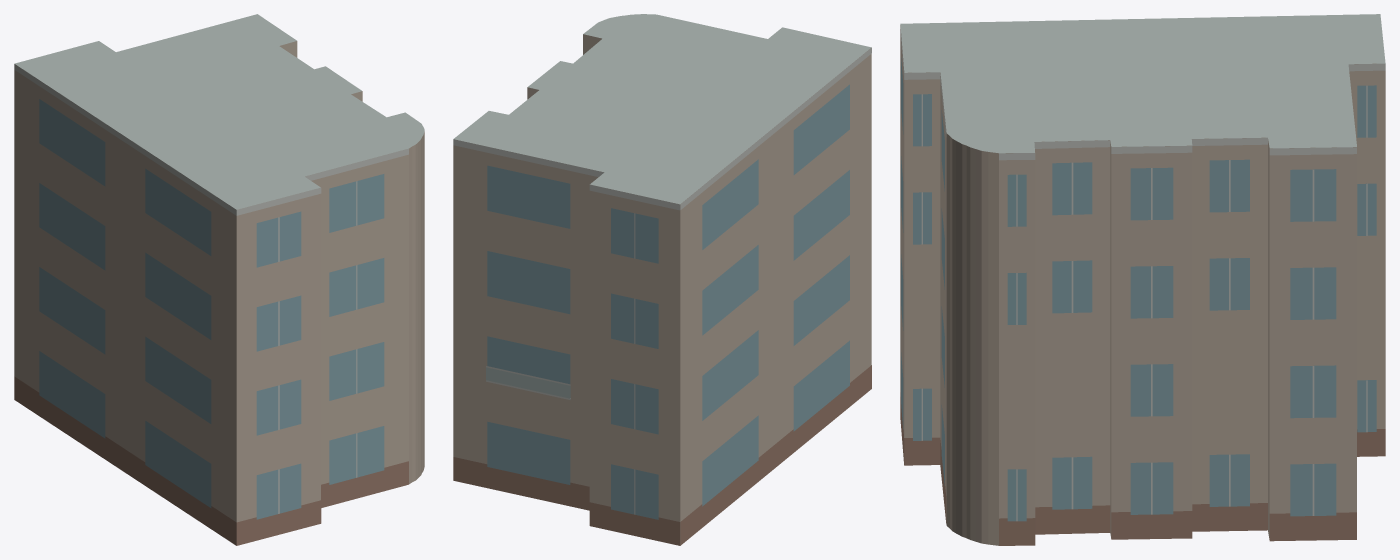
The model's file is survey-upis-32699806.glb.
3 renders of one model, left to right at view 1: azimuth 30°, elevation 25°; view 2: azimuth 150°, elevation 25°; view 3: azimuth 270°, elevation 25°, orthographic. The views are drawn at different scales.
Parts seen in each view (by area): view 1: survey-upis-32699806.tmp; view 2: survey-upis-32699806.tmp; view 3: survey-upis-32699806.tmp.
Part boxes in pixels (x1=…): survey-upis-32699806.tmp: x1=14, y1=14, x2=424, y2=545; survey-upis-32699806.tmp: x1=453, y1=14, x2=871, y2=545; survey-upis-32699806.tmp: x1=900, y1=14, x2=1385, y2=545.
Bounding box in the file's own units: 10.35 × 13.6 × 15.24.
